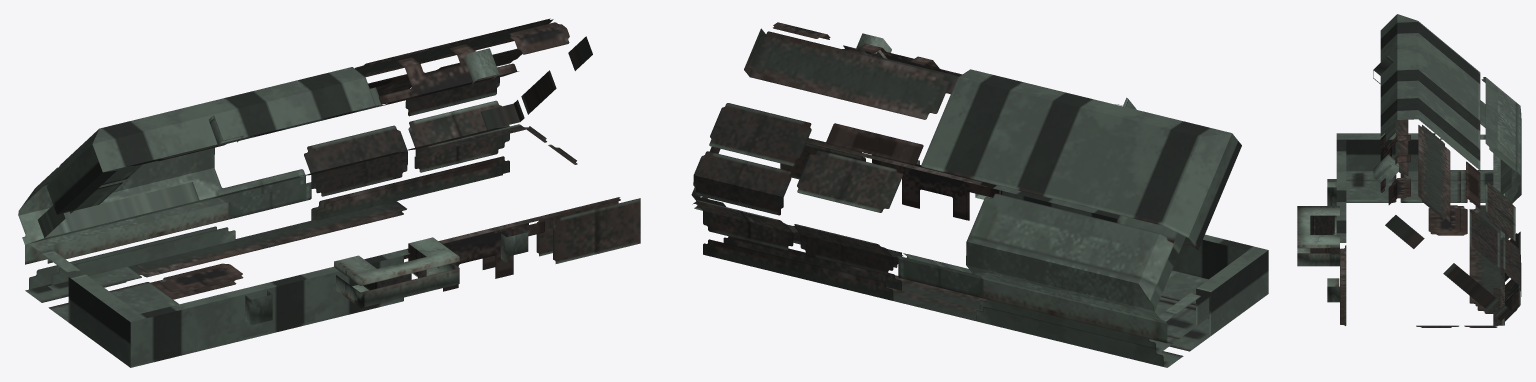
The model's file is TLOG_LongBarrelUpgrade_open.fbx.
The picture shows the model from 3 angles, left to right: view 1: azimuth 30°, elevation 25°; view 2: azimuth 150°, elevation 25°; view 3: azimuth 270°, elevation 25°; orthographic projection. The views are drawn at different scales.
Parts seen in each view (by area): view 1: Cube; view 2: Cube; view 3: Cube.
Boxes of the visible parts, left/top/right/bottom form: Cube: left=18, top=18, right=640, bottom=367; Cube: left=691, top=22, right=1268, bottom=367; Cube: left=1297, top=14, right=1521, bottom=327.
Size of the model in its own units: 0.3625 by 0.1361 by 0.1733.
